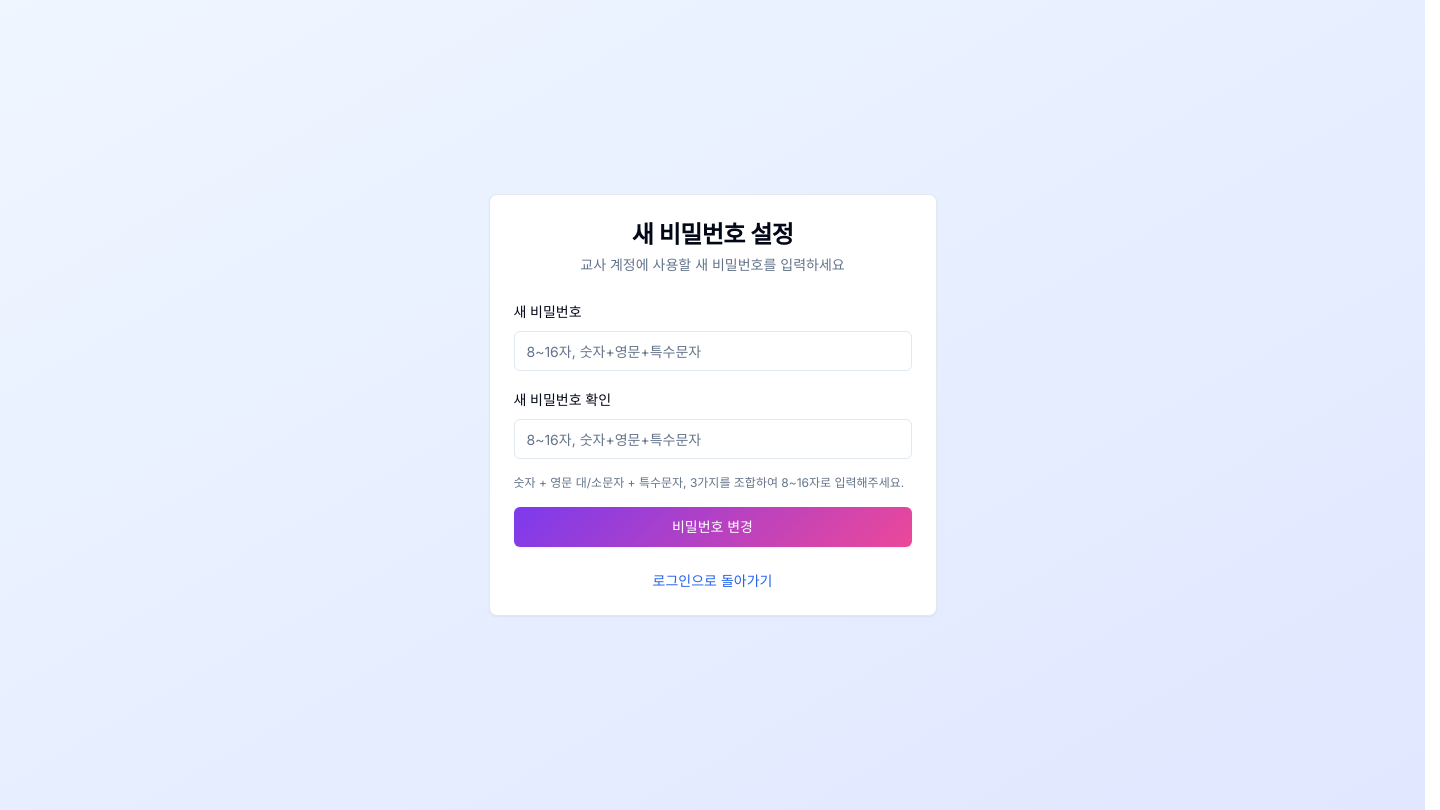
비밀번호 재설정 화면 › 공통 정책보다 약한 비밀번호는 서버에 보내지 않고 안내한다
Type "abcdef" into the password field labelled "새 비밀번호".
click(712, 351); type("abcdef")  # box [514,331,912,371]
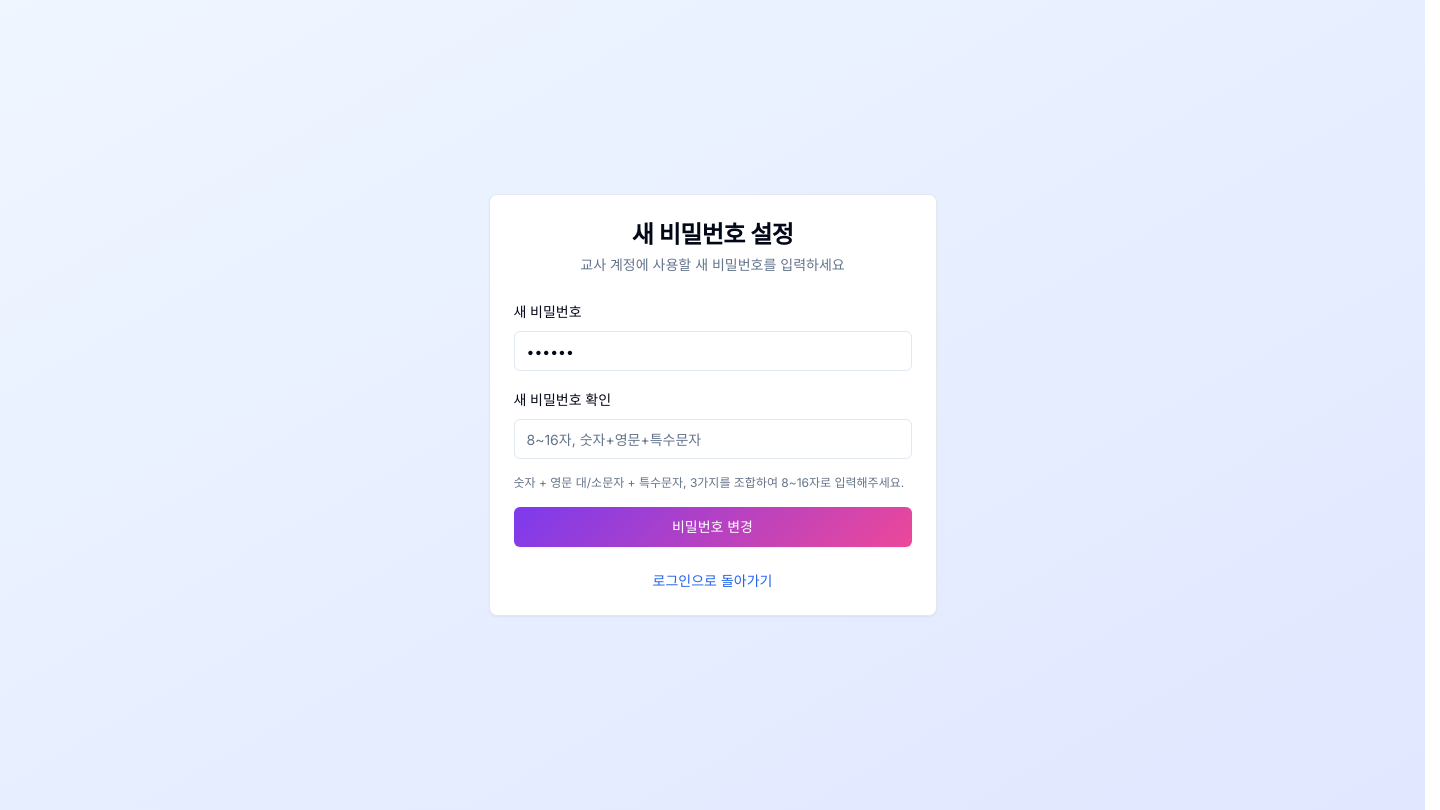
Type "abcdef" into the password field labelled "새 비밀번호 확인".
click(712, 439); type("abcdef")  # box [514,419,912,459]
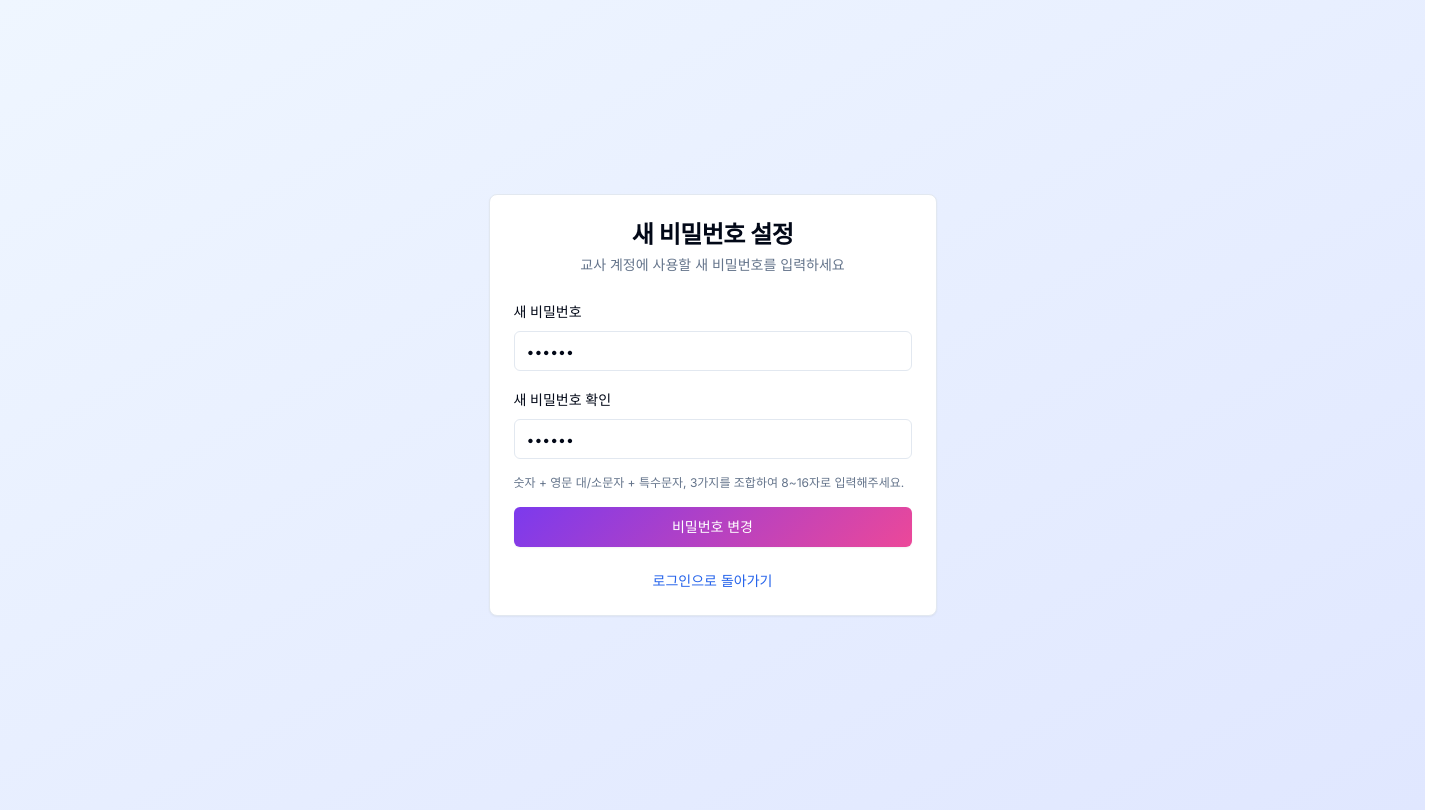
Click the button "비밀번호 변경".
click(712, 527)  # box [514,507,912,547]
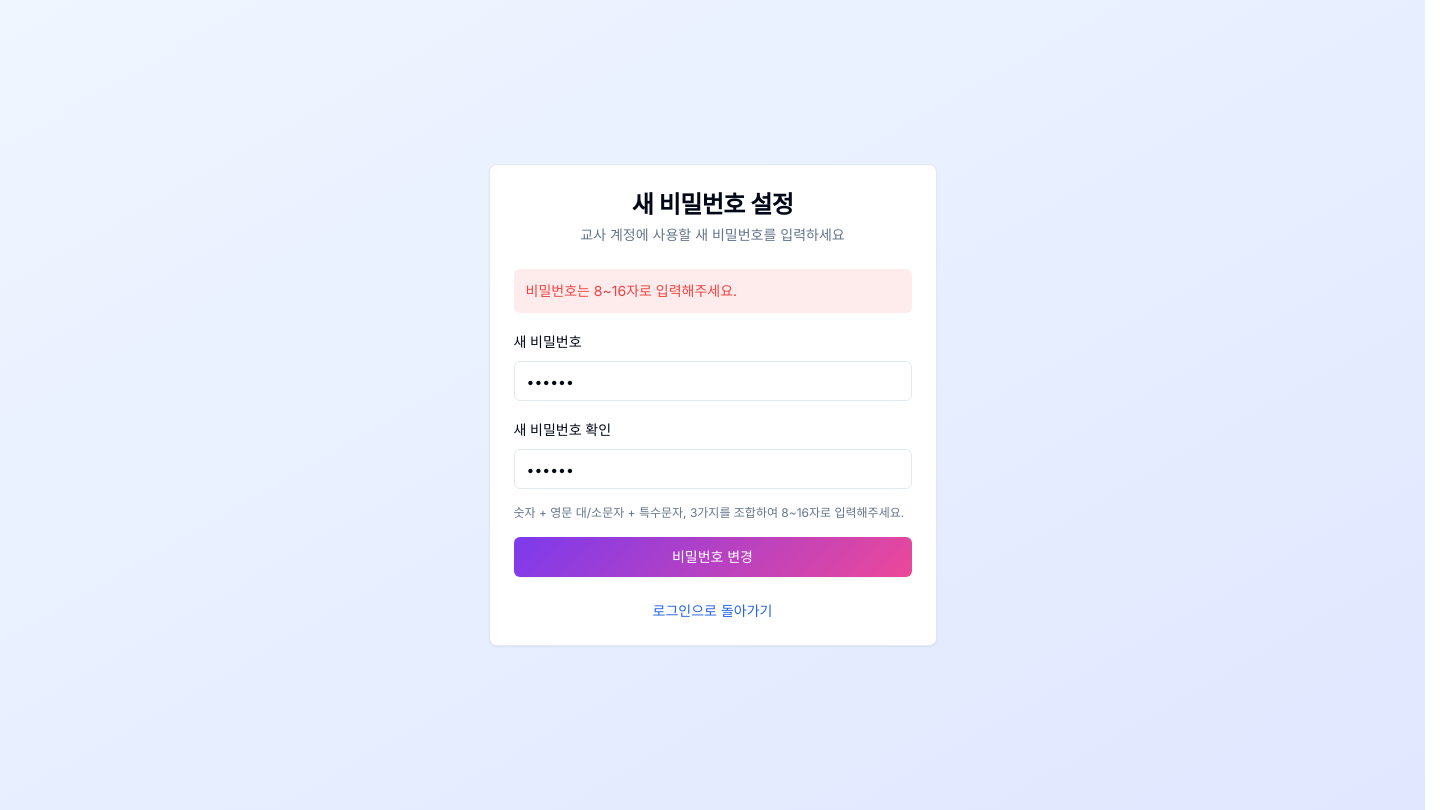
Check: the message shows "8~16자", box [526,282,737,299]
